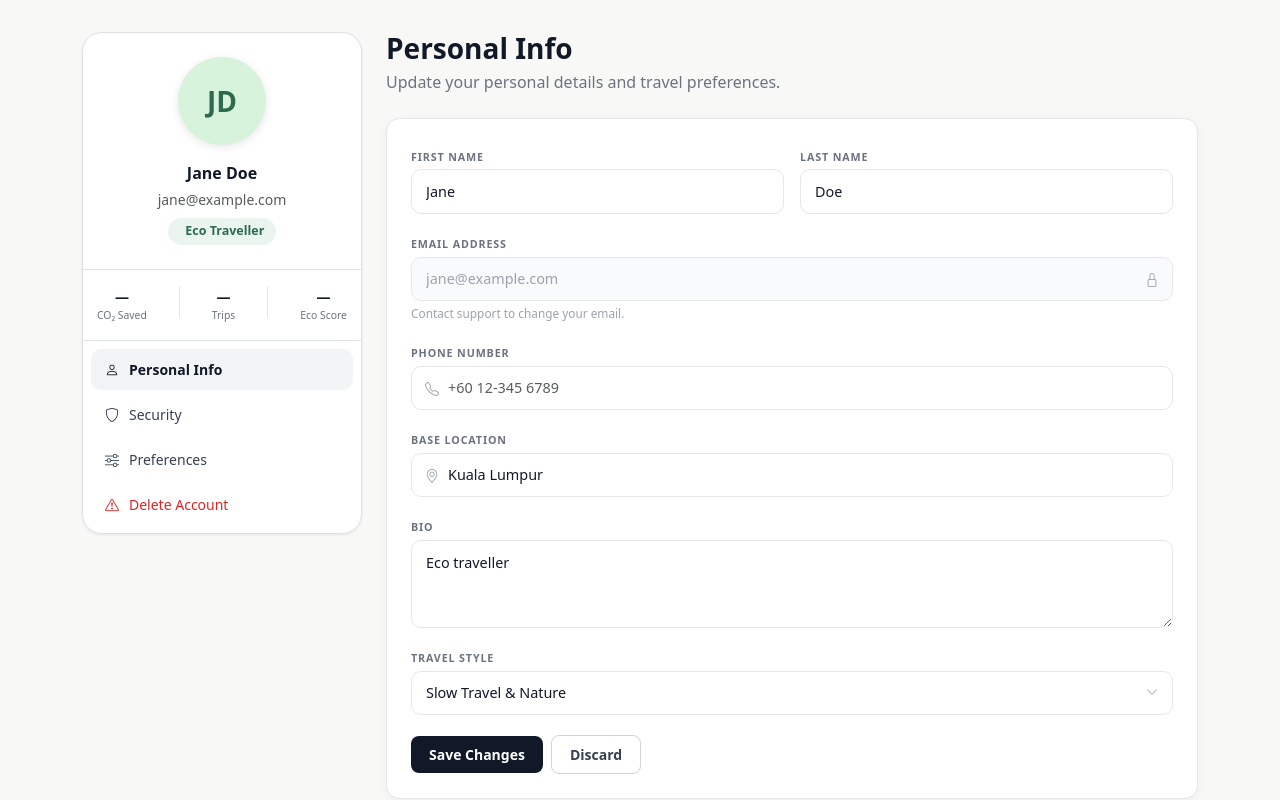
Scenario: ProfilePage › switches to Security section when Security nav is clicked
expect the heading "Personal Info" is shown: met, box x1=386 y1=29 x2=573 y2=67
Click the button "Security" at (155, 414), box x1=91 y1=394 x2=353 y2=435
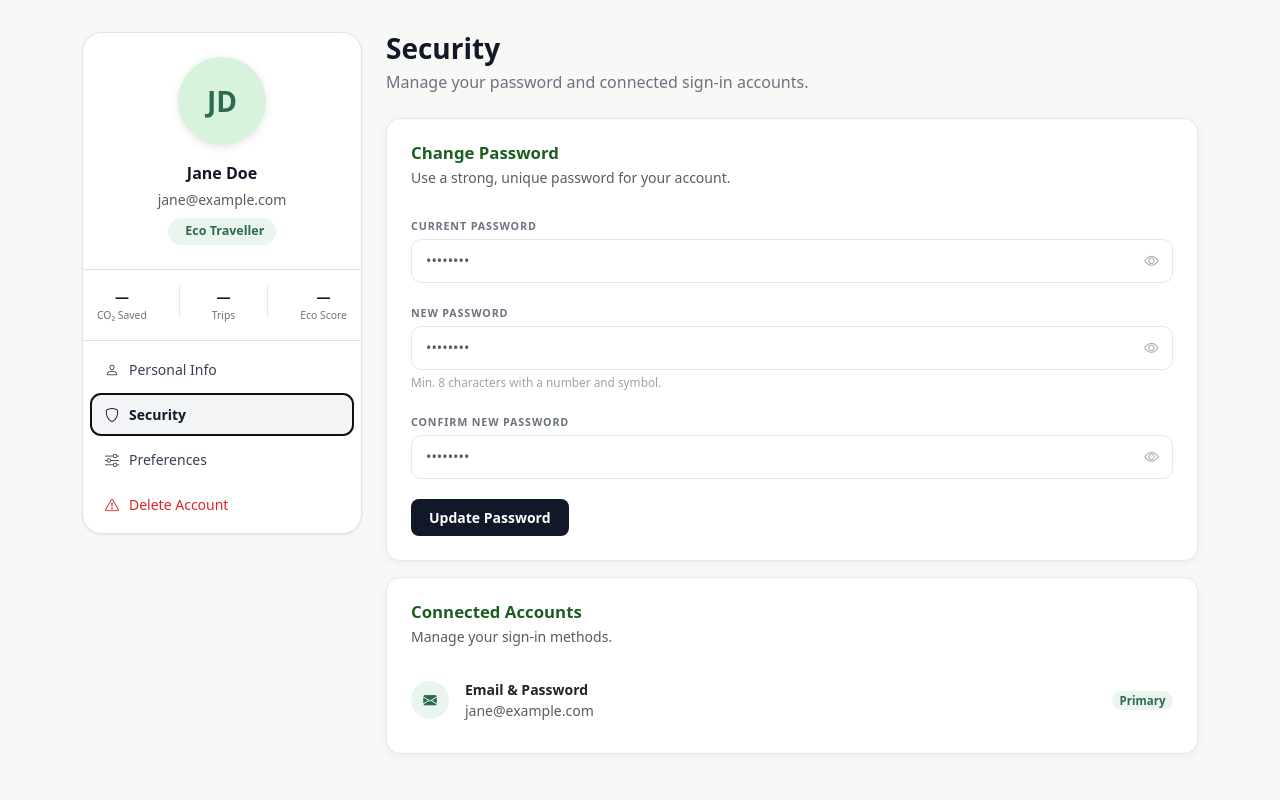
expect the heading "Security" is shown: met, box x1=386 y1=29 x2=500 y2=67
